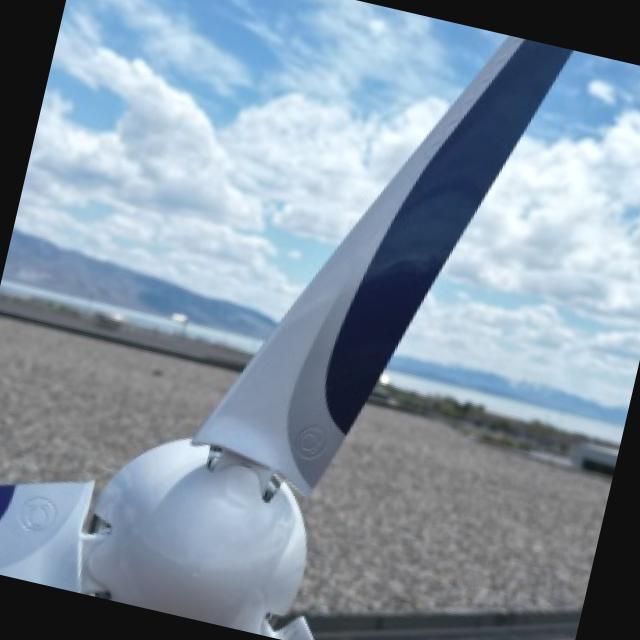healthy: (0, 36, 572, 640), (392, 51, 640, 436)
